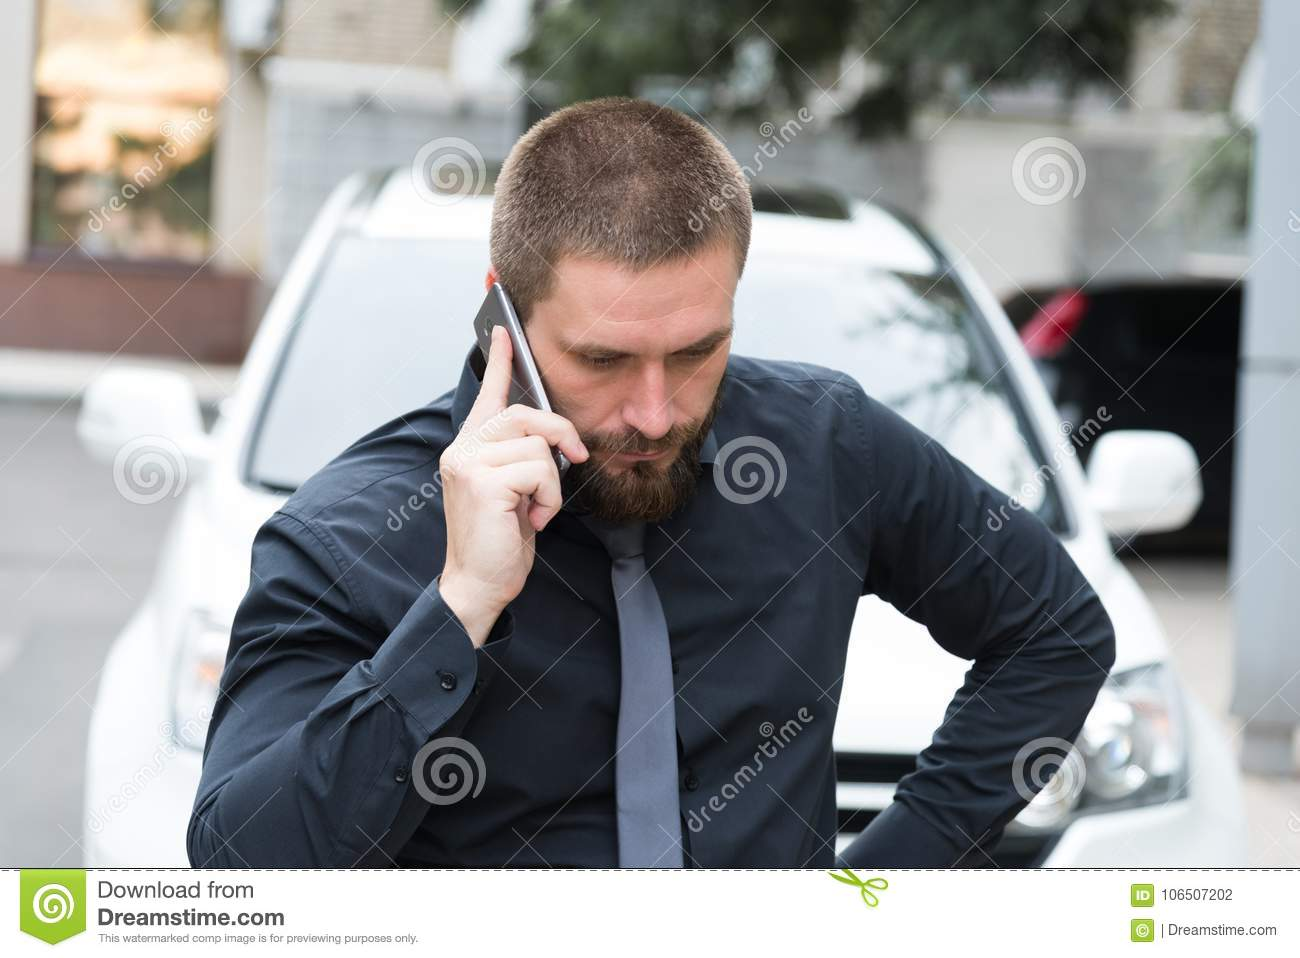phone: (473, 285, 568, 491)
talk: (433, 273, 730, 599)
